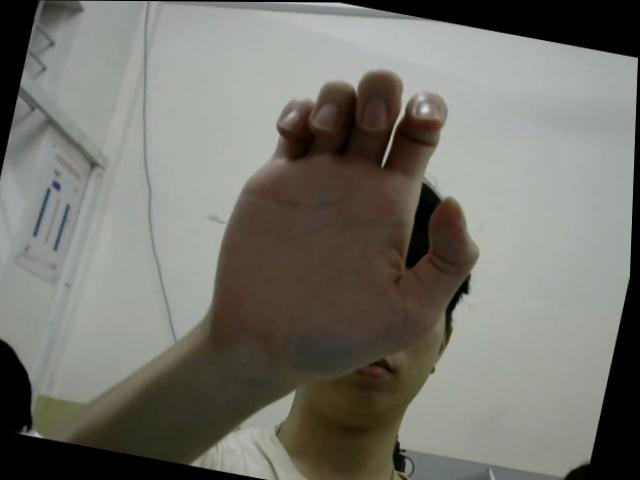E: (195, 41, 515, 397)
